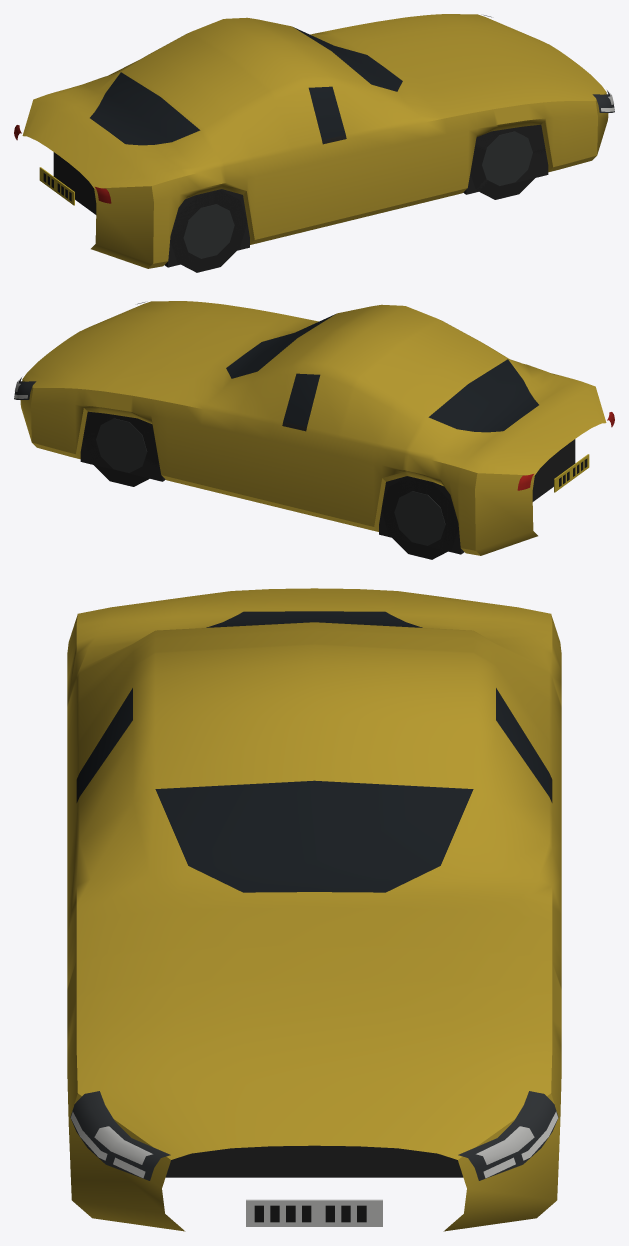
The model's file is SM_Prop_parked_car_111_LOD1.glb.
The picture shows the model from 3 angles, top to bottom: view 1: azimuth 30°, elevation 25°; view 2: azimuth 150°, elevation 25°; view 3: azimuth 270°, elevation 25°; orthographic projection. The views are drawn at different scales.
Parts seen in each view (by area): view 1: SM_Prop_parked_car_111_LOD1; view 2: SM_Prop_parked_car_111_LOD1; view 3: SM_Prop_parked_car_111_LOD1.
Part boxes in pixels (x1,y1,x2,y2): SM_Prop_parked_car_111_LOD1: (14,14,614,272); SM_Prop_parked_car_111_LOD1: (14,301,614,559); SM_Prop_parked_car_111_LOD1: (67,588,561,1231).
Size of the model in its own units: 4.53 by 1.32 by 1.88.
